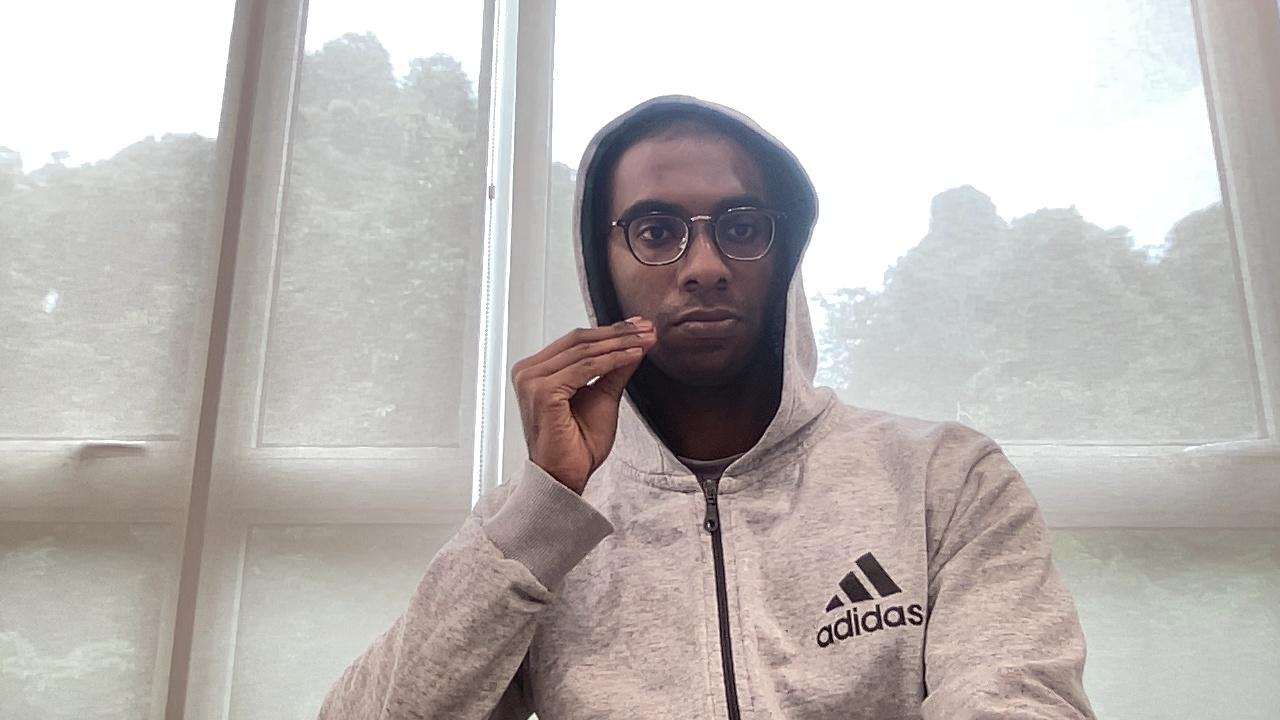eat: (504, 312, 668, 464)
